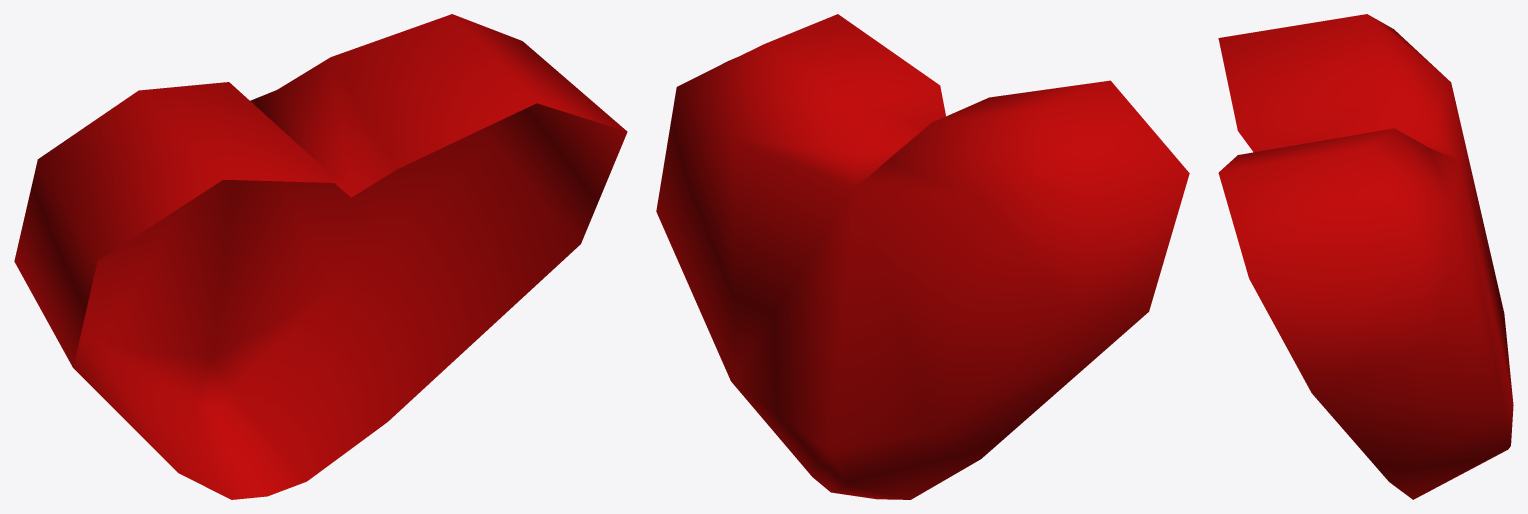
File: coeur_.fbx
3 views of the same model, side by side, from view 1: azimuth 30°, elevation 25°; view 2: azimuth 150°, elevation 25°; view 3: azimuth 270°, elevation 25° (orthographic). The views are drawn at different scales.
Visible parts, largest first — view 1: polySurface1; view 2: polySurface1; view 3: polySurface1.
Boxes of the visible parts, x1=… form: polySurface1: x1=14, y1=14, x2=627, y2=499; polySurface1: x1=656, y1=14, x2=1189, y2=499; polySurface1: x1=1218, y1=14, x2=1513, y2=499.
Bounding box in the file's own units: 68.75 × 57.6 × 37.68.
